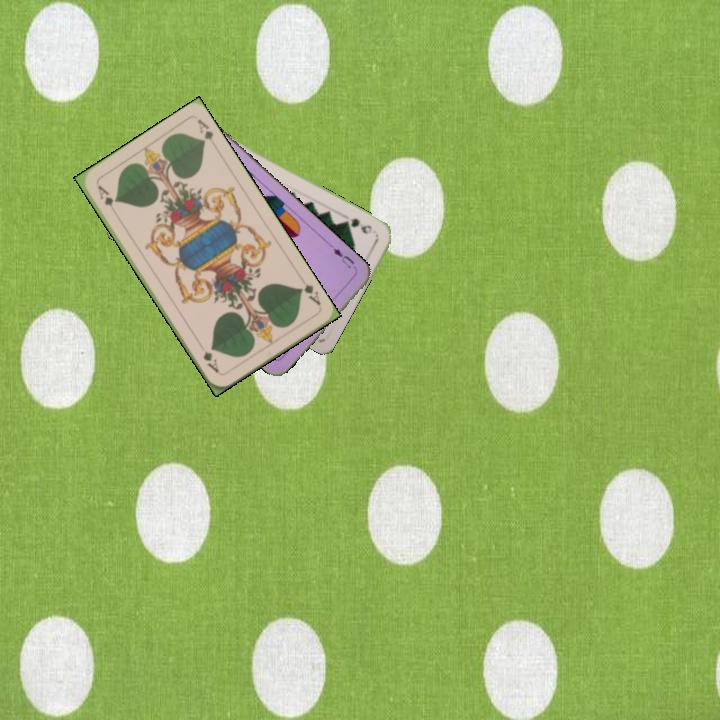EU: (329, 244, 357, 271)
G9: (346, 214, 375, 237)
GA: (294, 280, 323, 308), (93, 181, 116, 209)
